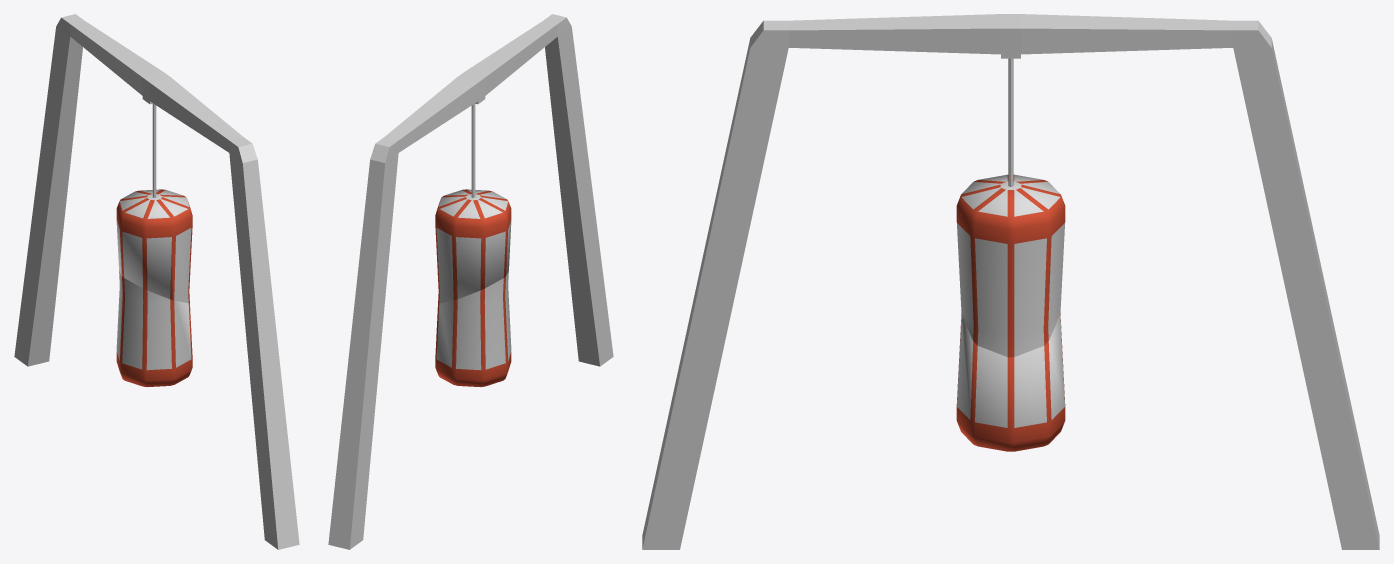
File: boxer.fbx
3 views of the same model, side by side, from view 1: azimuth 30°, elevation 25°; view 2: azimuth 150°, elevation 25°; view 3: azimuth 270°, elevation 25° (orthographic). The views are drawn at different scales.
Visible parts, largest first — view 1: Cube.009, Cylinder.001, Cylinder.002; view 2: Cube.009, Cylinder.001, Cylinder.002; view 3: Cube.009, Cylinder.001, Cylinder.002.
Boxes of the visible parts, <box> form: Cube.009: <box>14,14,299,549</box>; Cylinder.001: <box>116,189,192,303</box>; Cylinder.002: <box>116,271,192,387</box>; Cube.009: <box>328,14,613,549</box>; Cylinder.001: <box>435,189,511,303</box>; Cylinder.002: <box>435,271,511,387</box>; Cube.009: <box>642,14,1379,549</box>; Cylinder.001: <box>956,174,1065,357</box>; Cylinder.002: <box>956,314,1065,451</box>.
Size of the model in its own units: 54.47 by 289 by 371.
